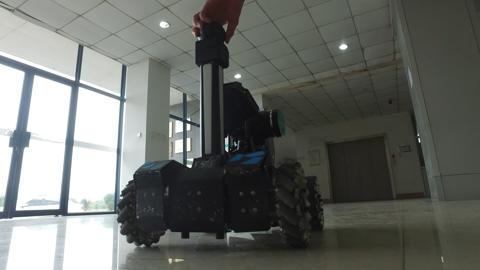chariot: (94, 24, 336, 254)
